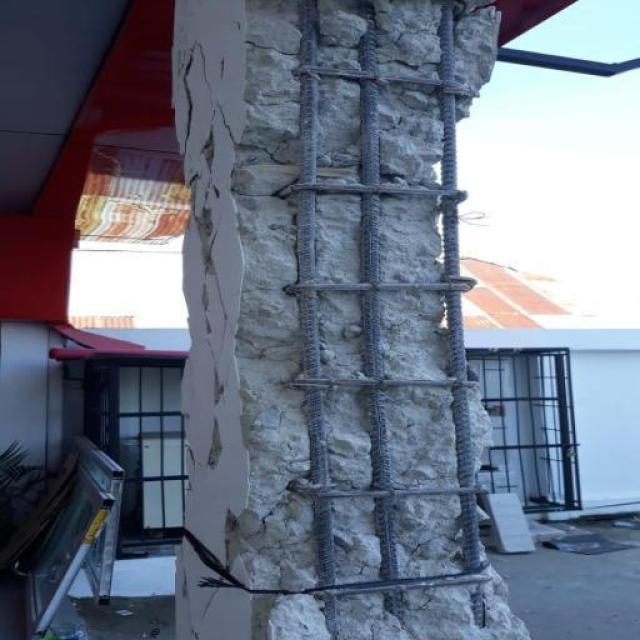D0w0: (230, 0, 528, 639)
